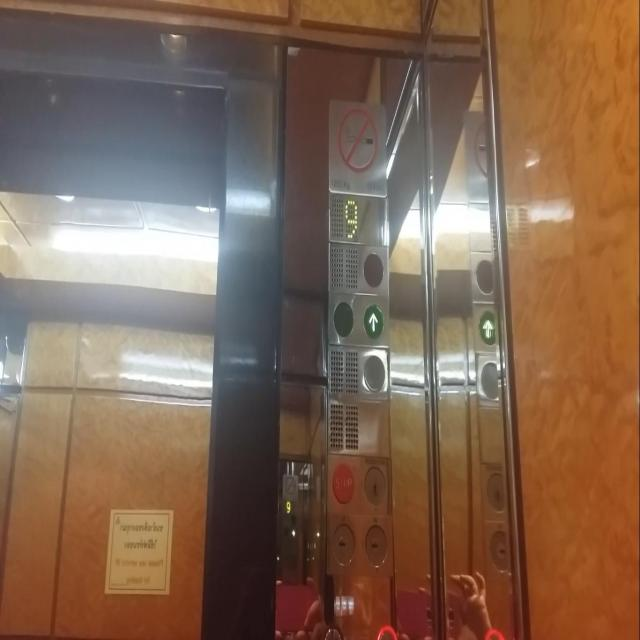empty: (362, 352, 386, 392), (332, 300, 353, 338), (362, 251, 384, 287)
keyhole: (330, 521, 356, 567), (363, 522, 388, 568), (362, 463, 387, 505)
text_stop: (332, 461, 355, 504)
up: (362, 302, 384, 340)
